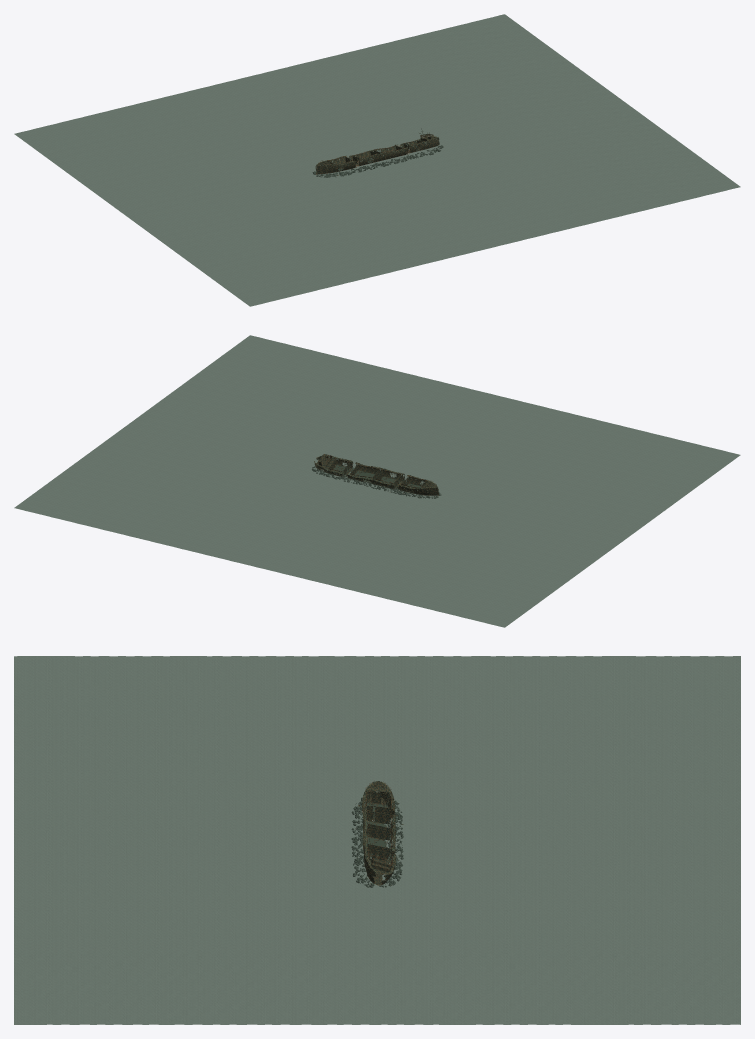
The model's file is korean_castle.glb.
3 renders of one model, top to bottom at view 1: azimuth 30°, elevation 25°; view 2: azimuth 150°, elevation 25°; view 3: azimuth 270°, elevation 25°, orthographic. The views are drawn at different scales.
Visible parts, largest first — view 1: Seabed_sand_ripples, Rubble_apron; view 2: Seabed_sand_ripples, Rubble_apron; view 3: Seabed_sand_ripples, Rubble_apron.
Boxes of the visible parts, <box> form: Seabed_sand_ripples: <box>14,14,740,306</box>; Rubble_apron: <box>312,143,443,177</box>; Seabed_sand_ripples: <box>14,335,740,627</box>; Rubble_apron: <box>312,466,441,498</box>; Seabed_sand_ripples: <box>14,656,740,1024</box>; Rubble_apron: <box>351,797,403,887</box>.
Bounding box in the file's own units: 600 × 22.05 × 500.
Materials: 9 (2 with a texture image).
